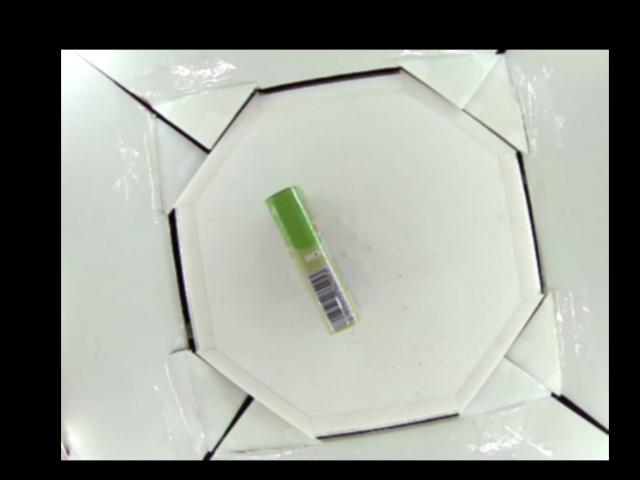Bottle: (262, 185, 360, 336)
